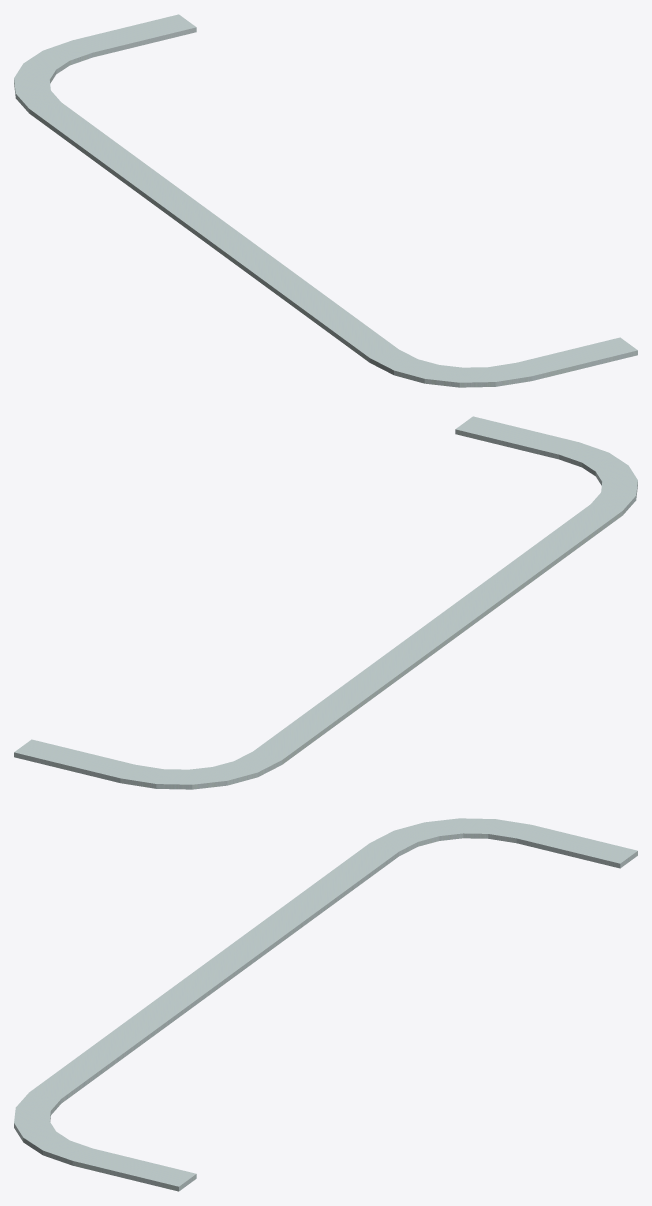
Rendered from srp023-geode.glb.
3 views of the same model, one above another, from view 1: azimuth 30°, elevation 25°; view 2: azimuth 150°, elevation 25°; view 3: azimuth 330°, elevation 25° (orthographic).
Visible parts, largest first — view 1: Node; view 2: Node; view 3: Node.
Part boxes in pixels (box(x1,y1,x2,y2)): Node: box(14, 14, 637, 387); Node: box(14, 416, 637, 789); Node: box(14, 818, 637, 1191).
Bounding box in the file's own units: 0.2985 × 0.00666 × 1.14.
1 material, 1 textured.
